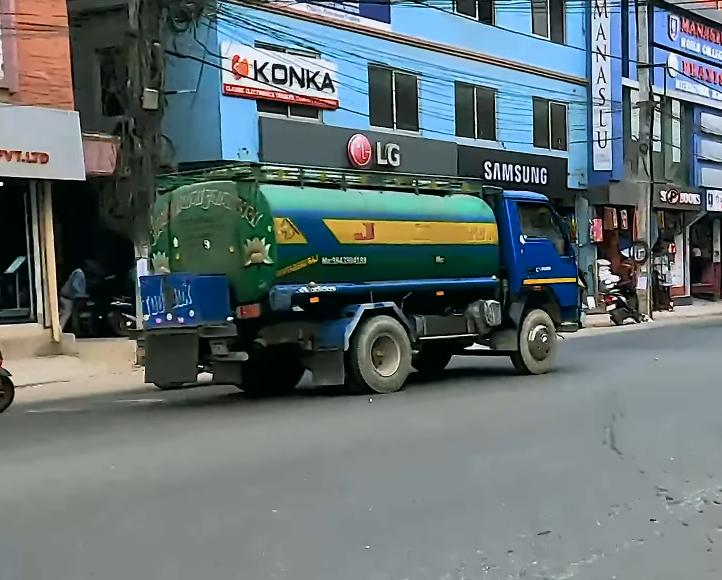mini_truck: (142, 155, 586, 406)
scooter: (590, 256, 652, 332)
